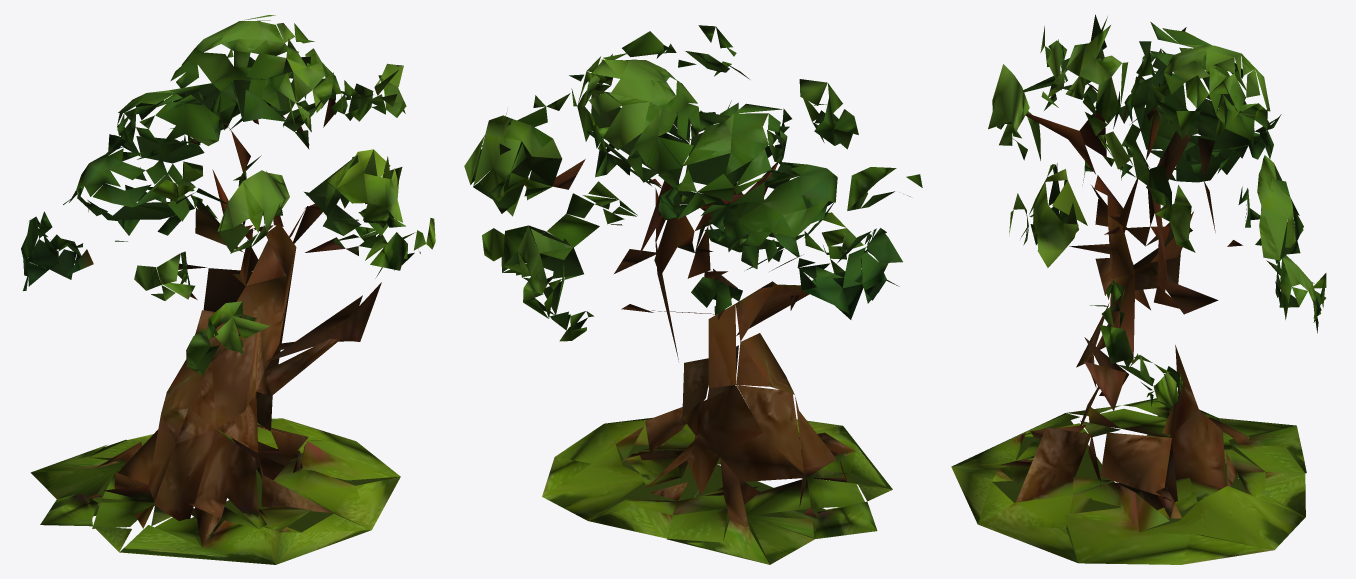
Rendered from tripo-carvalho153-lod.glb.
The picture shows the model from 3 angles, left to right: view 1: azimuth 30°, elevation 25°; view 2: azimuth 150°, elevation 25°; view 3: azimuth 270°, elevation 25°; orthographic projection. The views are drawn at different scales.
Visible parts, largest first — view 1: tripo_node_1be1100f-a075-4daa-8b85-816c6203dff2; view 2: tripo_node_1be1100f-a075-4daa-8b85-816c6203dff2; view 3: tripo_node_1be1100f-a075-4daa-8b85-816c6203dff2.
Part boxes in pixels (x1,y1,x2,y2): tripo_node_1be1100f-a075-4daa-8b85-816c6203dff2: (21,15,435,564); tripo_node_1be1100f-a075-4daa-8b85-816c6203dff2: (464,25,922,564); tripo_node_1be1100f-a075-4daa-8b85-816c6203dff2: (951,14,1326,564).
Bounding box in the file's own units: 0.939 × 0.9596 × 0.6902.
Materials: 1 (1 with a texture image).
